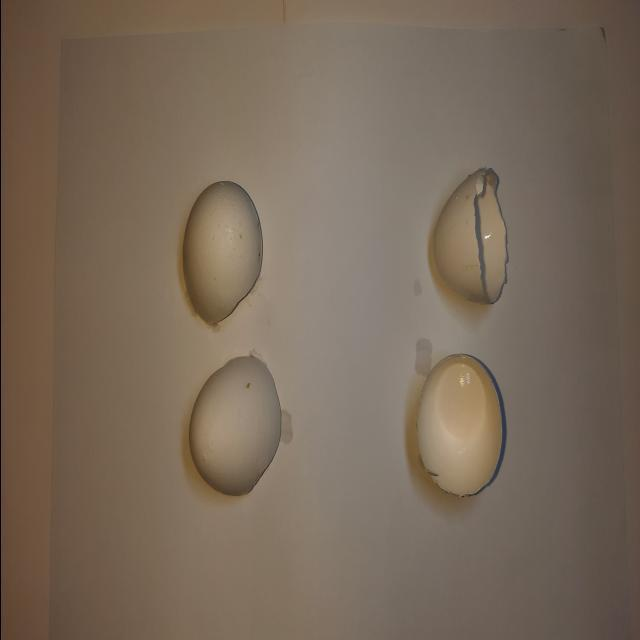egg shell: (185, 350, 284, 500), (414, 350, 506, 500), (180, 180, 264, 330), (430, 162, 510, 308)
